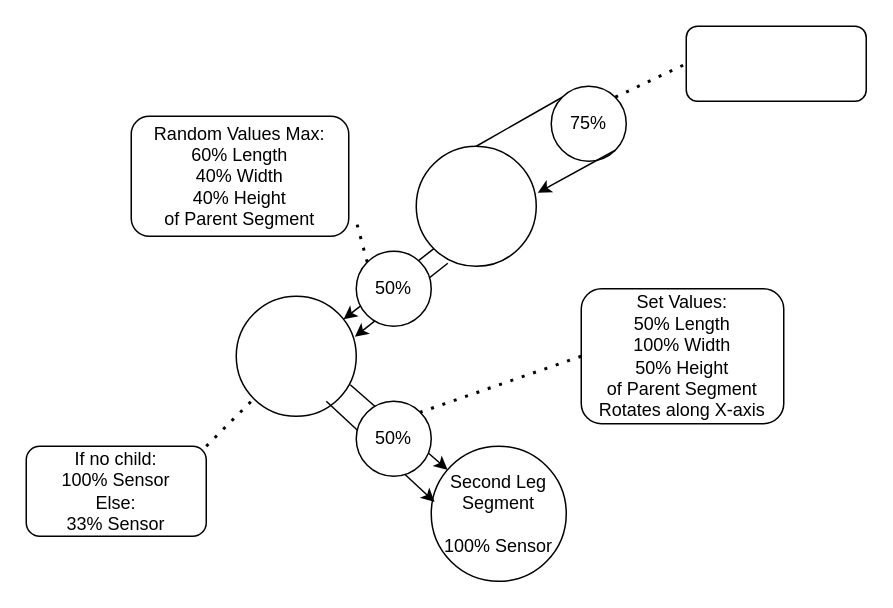
The diagram is 893 pixels wide and 608 high, and some of its shapes have lost their labels. The centre of each missing label's shape, as x and y in pixels:
"Body Segment 33% Sensor" belongs at (475,205).
"Leg Segment" belongs at (295,355).
"Random Values for Length, Width, Height" belongs at (775,63).
